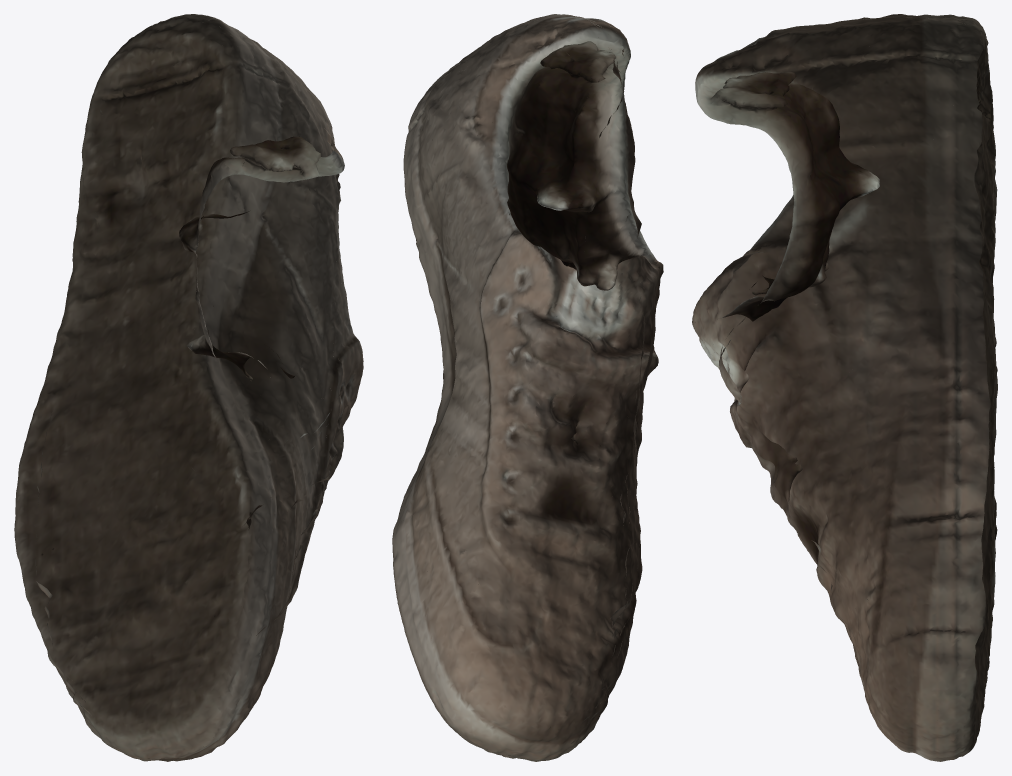
Rendered from shoe3.glb.
3 views of the same model, side by side, from view 1: azimuth 30°, elevation 25°; view 2: azimuth 150°, elevation 25°; view 3: azimuth 270°, elevation 25° (orthographic). The views are drawn at different scales.
Bounding box in the file's own units: 0.3577 × 1 × 0.3746.
